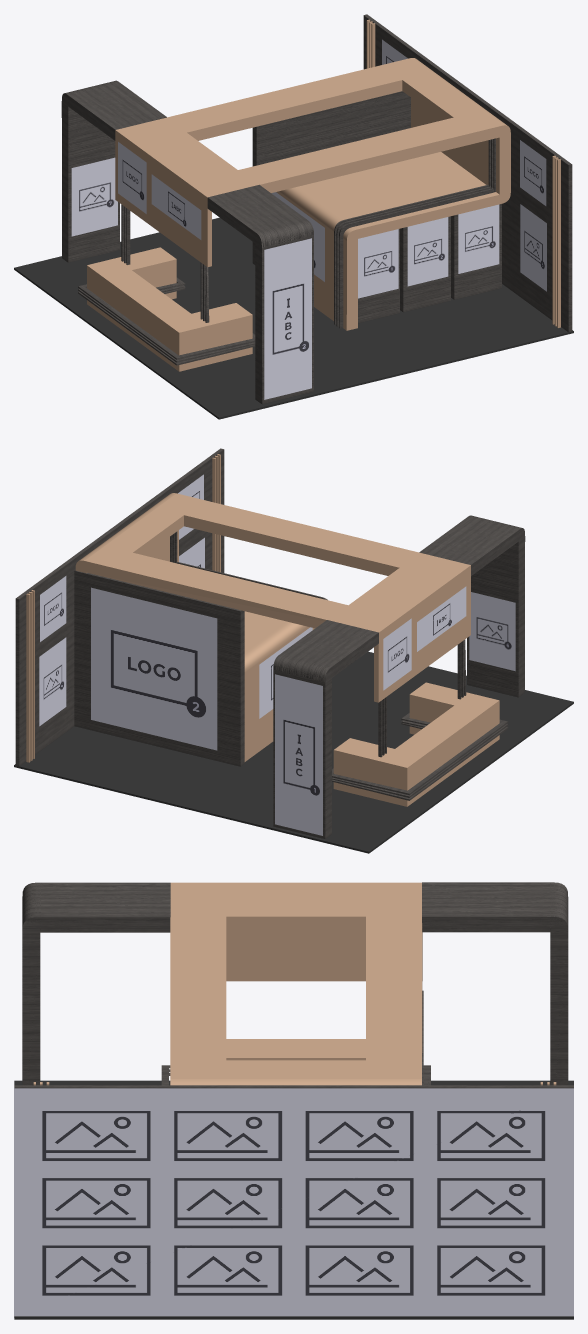
Rendered from stant38.gltf.
3 renders of one model, top to bottom at view 1: azimuth 30°, elevation 25°; view 2: azimuth 150°, elevation 25°; view 3: azimuth 270°, elevation 25°, orthographic. The views are drawn at different scales.
Parts seen in each view (by area): view 1: modrenk1, modahsap, modzemin, moddikyazi2, moddikgorsel7, moddikgorsel2, moddikgorsel3, moddikgorsel1, moddikgorsel5, modyazi1, modlogo1, modlogo4 (+1 smaller); view 2: modrenk1, modahsap, modzemin, modlogo2, moddikyazi1, moddikgorsel6, moddikgorsel4, modyazi1, modlogo1, modlogo3, modvideo1; view 3: modgenisgorsel, modrenk1, modahsap, modzemin.
Boxes of the visible parts, x1=… form: modrenk1: x1=87, y1=19, x2=560, y2=371; modahsap: x1=61, y1=14, x2=572, y2=404; modzemin: x1=14, y1=217, x2=573, y2=419; moddikyazi2: x1=264, y1=238, x2=311, y2=399; moddikgorsel7: x1=71, y1=157, x2=117, y2=236; moddikgorsel2: x1=407, y1=217, x2=448, y2=286; moddikgorsel3: x1=458, y1=204, x2=499, y2=273; moddikgorsel1: x1=358, y1=229, x2=398, y2=298; moddikgorsel5: x1=520, y1=204, x2=546, y2=291; modyazi1: x1=151, y1=174, x2=201, y2=239; modlogo1: x1=118, y1=142, x2=146, y2=213; modlogo4: x1=520, y1=140, x2=546, y2=205; modrenk1: x1=26, y1=454, x2=499, y2=806; modahsap: x1=15, y1=448, x2=525, y2=838; modzemin: x1=14, y1=651, x2=573, y2=853; modlogo2: x1=91, y1=587, x2=217, y2=750; moddikyazi1: x1=275, y1=674, x2=322, y2=835; moddikgorsel6: x1=469, y1=592, x2=515, y2=671; moddikgorsel4: x1=39, y1=637, x2=66, y2=726; modyazi1: x1=417, y1=586, x2=466, y2=651; modlogo1: x1=383, y1=618, x2=411, y2=690; modlogo3: x1=40, y1=576, x2=66, y2=641; modvideo1: x1=259, y1=627, x2=312, y2=718; modgenisgorsel: x1=14, y1=1088, x2=573, y2=1317; modrenk1: x1=33, y1=882, x2=556, y2=1085; modahsap: x1=14, y1=882, x2=573, y2=1088; modzemin: x1=14, y1=1080, x2=573, y2=1319.
Size of the model in its own units: 1 by 0.4567 by 1.
19 materials, 17 textured.
